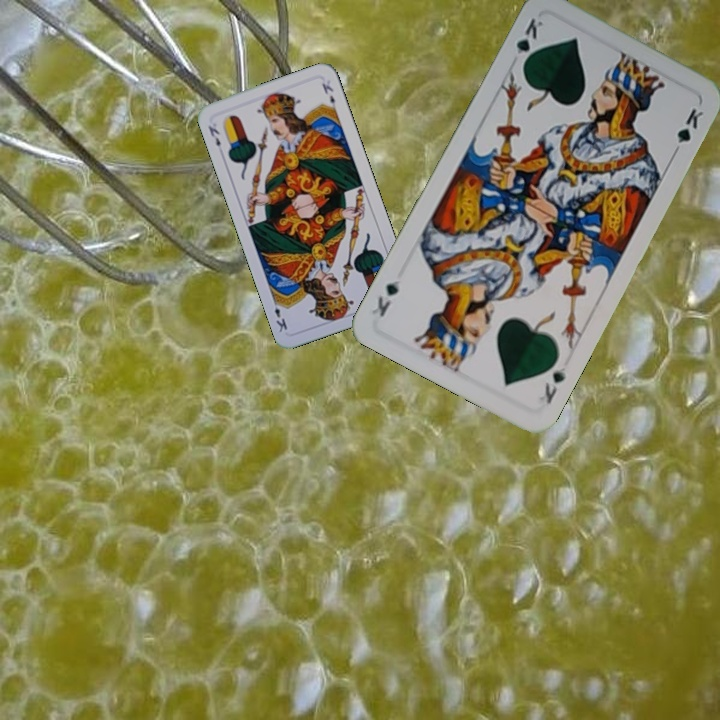EK: (204, 122, 223, 149)
GK: (511, 14, 546, 71), (534, 363, 569, 407)
